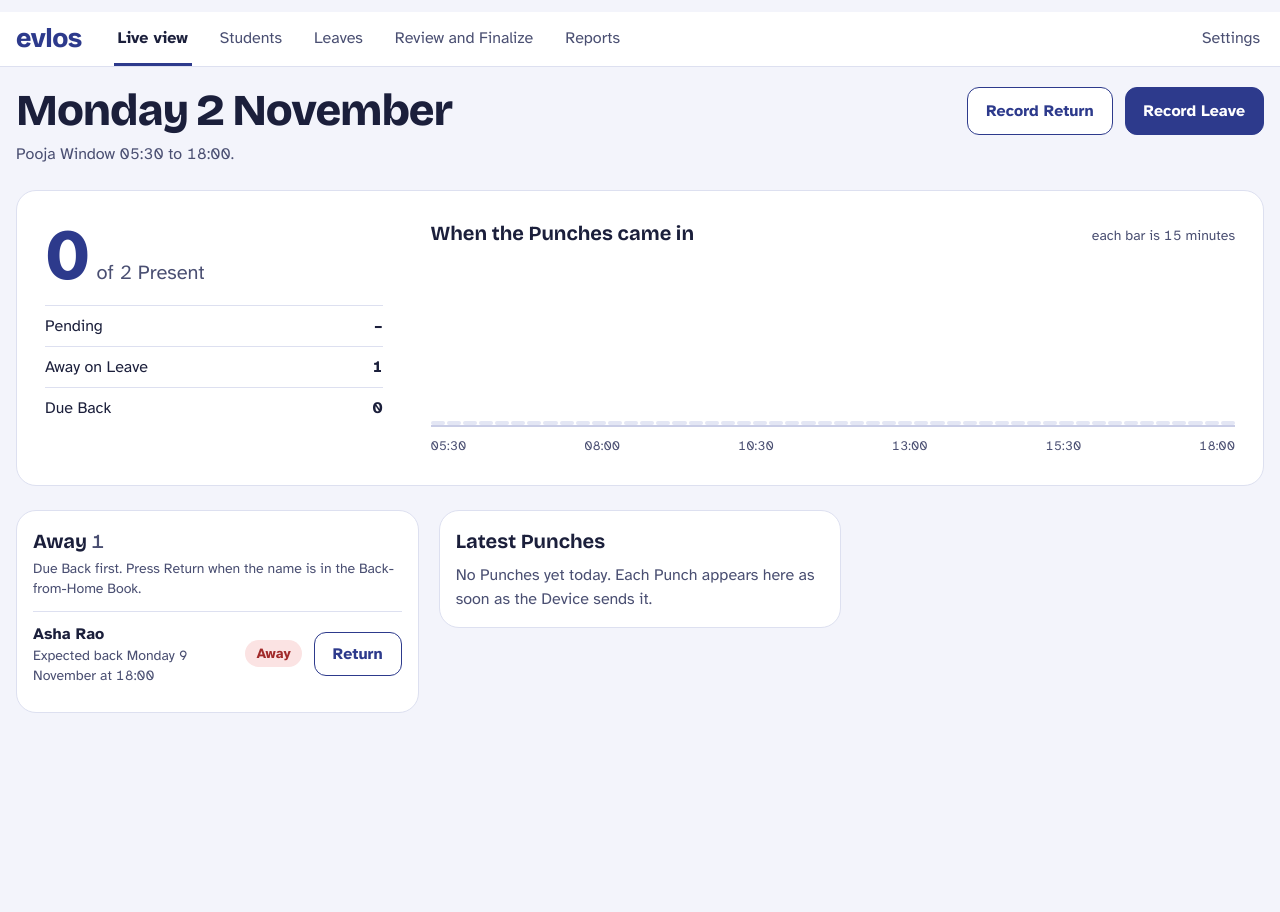
Scenario: menu › Return on the Live view opens the Back-from-Home Book with that Student ticked
Click the button with aria-label "Record Return for Asha Rao".
click(358, 654)  # box 314,632 -> 402,676
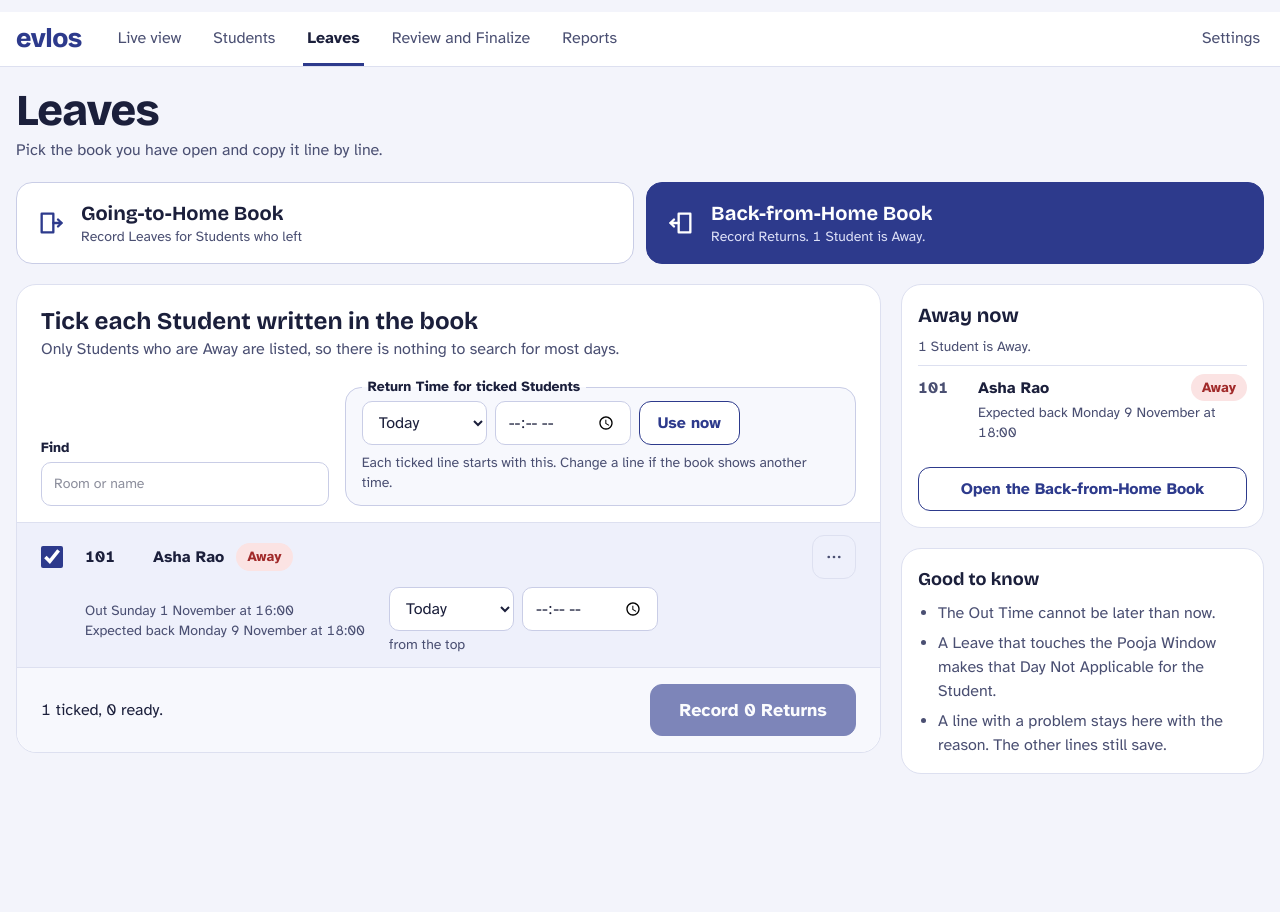
Expected: the heading "Leaves" is shown, 16,84 -> 159,137
Expected: the checkbox named "Asha Rao came back" is checked, 41,546 -> 63,568
